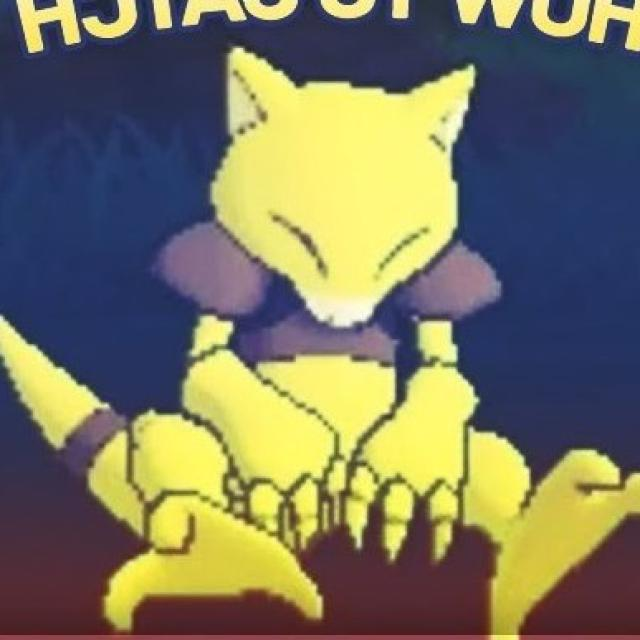Abra: (86, 59, 544, 576)
